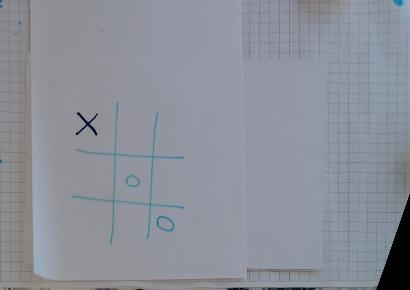O: (155, 214, 177, 232), (123, 170, 140, 189)
X: (72, 109, 102, 138)
grid: (65, 100, 196, 250)
